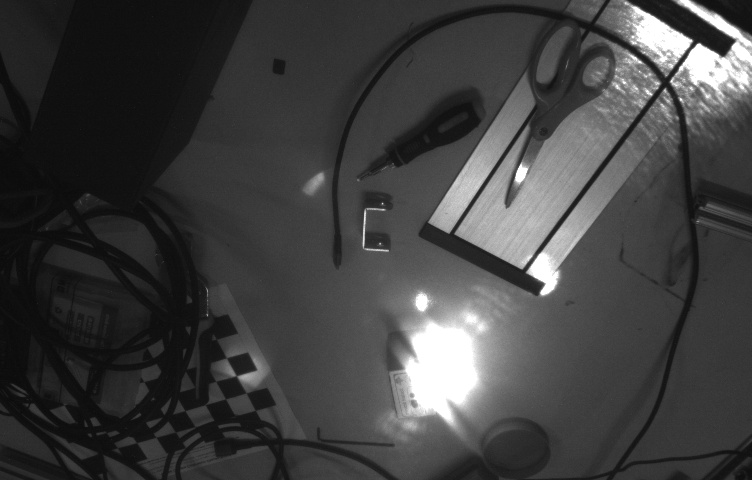Object robotic gripper finger assembly - Material plastic - Color blue - Pdfname: (409, 335, 456, 407)
